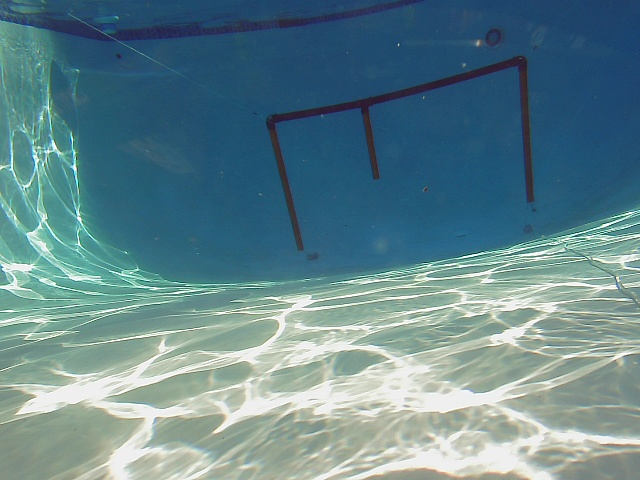Gate: (267, 125, 308, 251), (514, 66, 537, 206), (358, 107, 382, 183)
